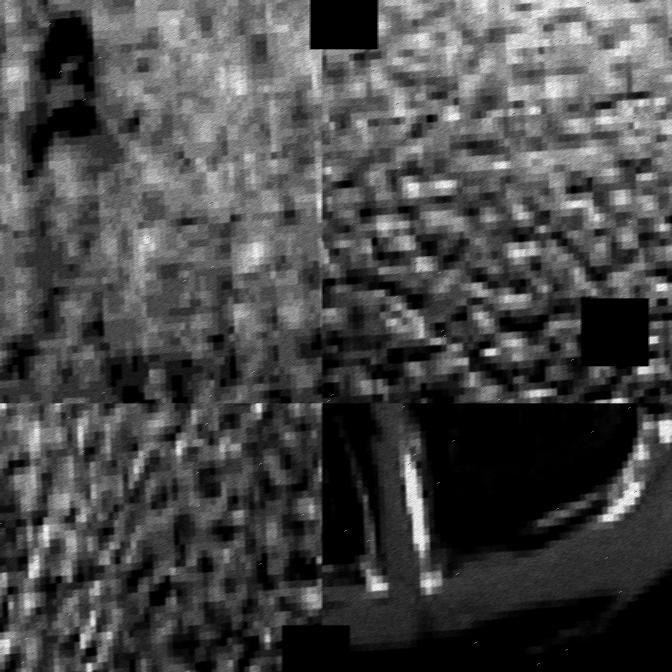Airbag: (322, 0, 672, 403), (0, 0, 322, 403), (322, 403, 672, 672), (0, 403, 322, 672)
